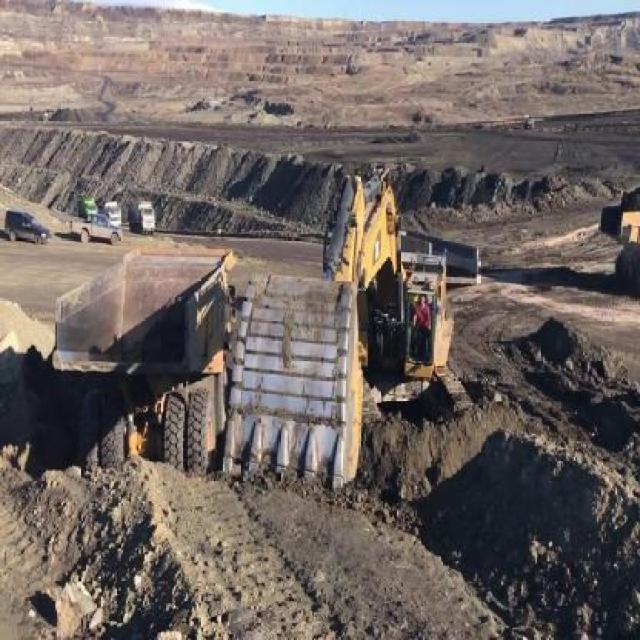dump_truck: (51, 235, 248, 460), (599, 204, 639, 290)
excavator: (223, 160, 474, 509)
